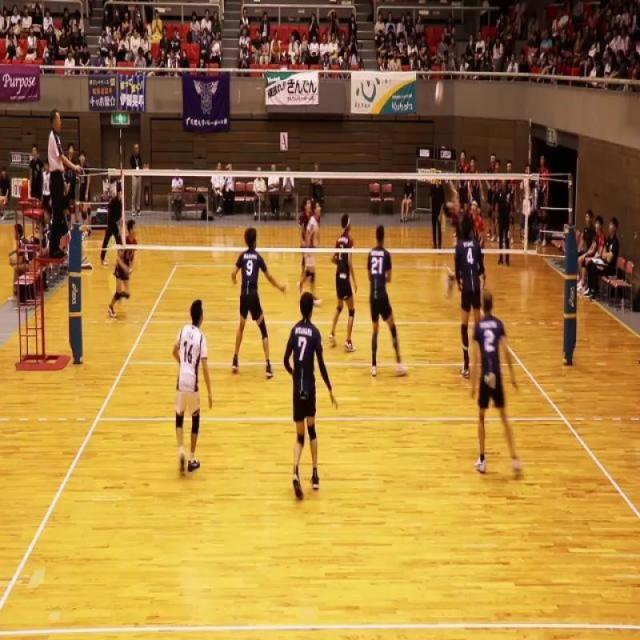volleyball: (434, 78, 444, 110)
